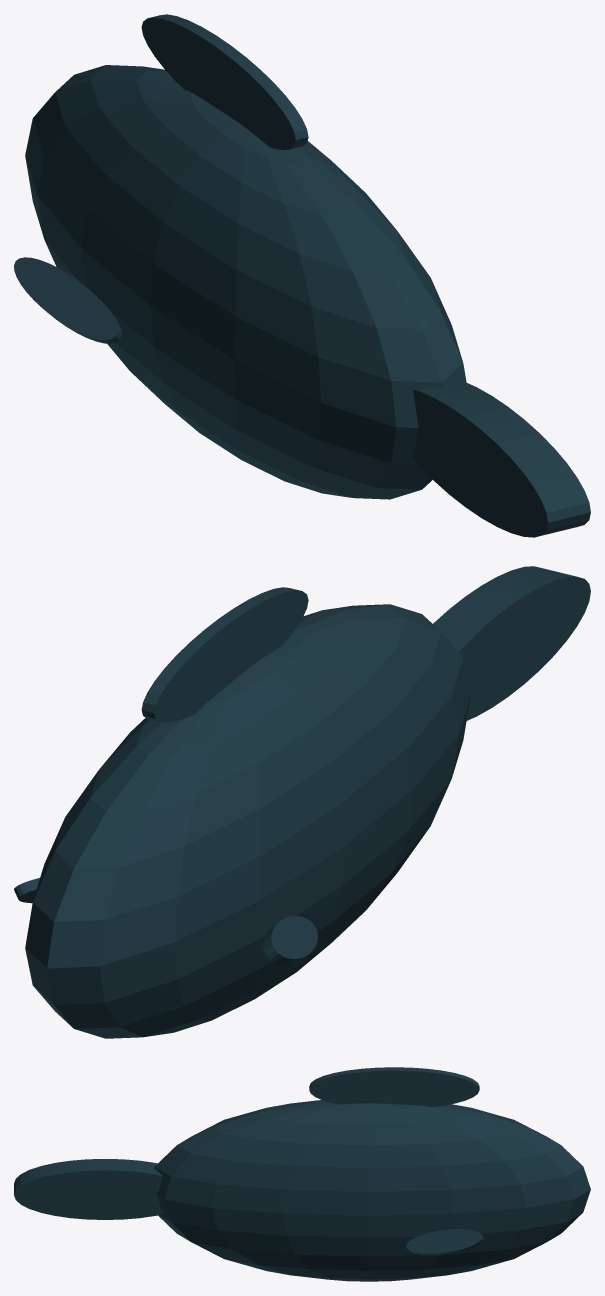
File: swimming_sea_fish.glb
The picture shows the model from 3 angles, top to bottom: view 1: azimuth 30°, elevation 25°; view 2: azimuth 150°, elevation 25°; view 3: azimuth 270°, elevation 25°; orthographic projection. The views are drawn at different scales.
Visible parts, largest first — view 1: SwimmingFish3D; view 2: SwimmingFish3D; view 3: SwimmingFish3D.
Boxes of the visible parts, box(x1,y1,x2,y2) form: SwimmingFish3D: box(14, 14, 590, 537); SwimmingFish3D: box(14, 566, 590, 1038); SwimmingFish3D: box(14, 1067, 590, 1281).
Size of the model in its own units: 0.3393 by 0.4545 by 1.14.
